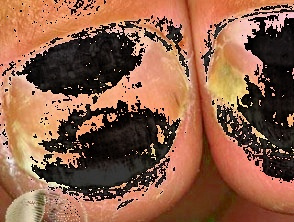Nail_psoriasis: (0, 1, 201, 222), (190, 3, 294, 202)
